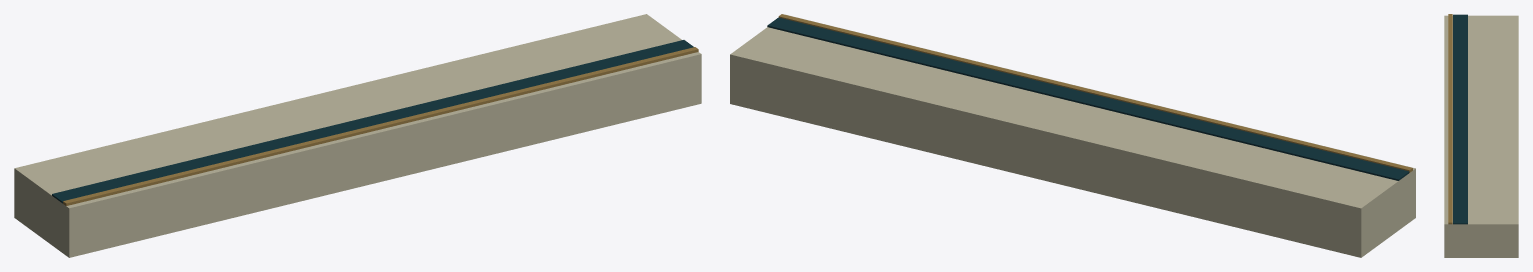
File: WP_A04_floor_border_4m_v02.glb
3 renders of one model, left to right at view 1: azimuth 30°, elevation 25°; view 2: azimuth 150°, elevation 25°; view 3: azimuth 270°, elevation 25°, orthographic. The views are drawn at different scales.
Visible parts, largest first — view 1: FloorBorder; view 2: FloorBorder; view 3: FloorBorder.
Boxes of the visible parts, x1=… form: FloorBorder: x1=14, y1=14, x2=701, y2=257; FloorBorder: x1=730, y1=14, x2=1415, y2=257; FloorBorder: x1=1444, y1=14, x2=1518, y2=257.
Bounding box in the file's own units: 4 × 0.316 × 0.6.
